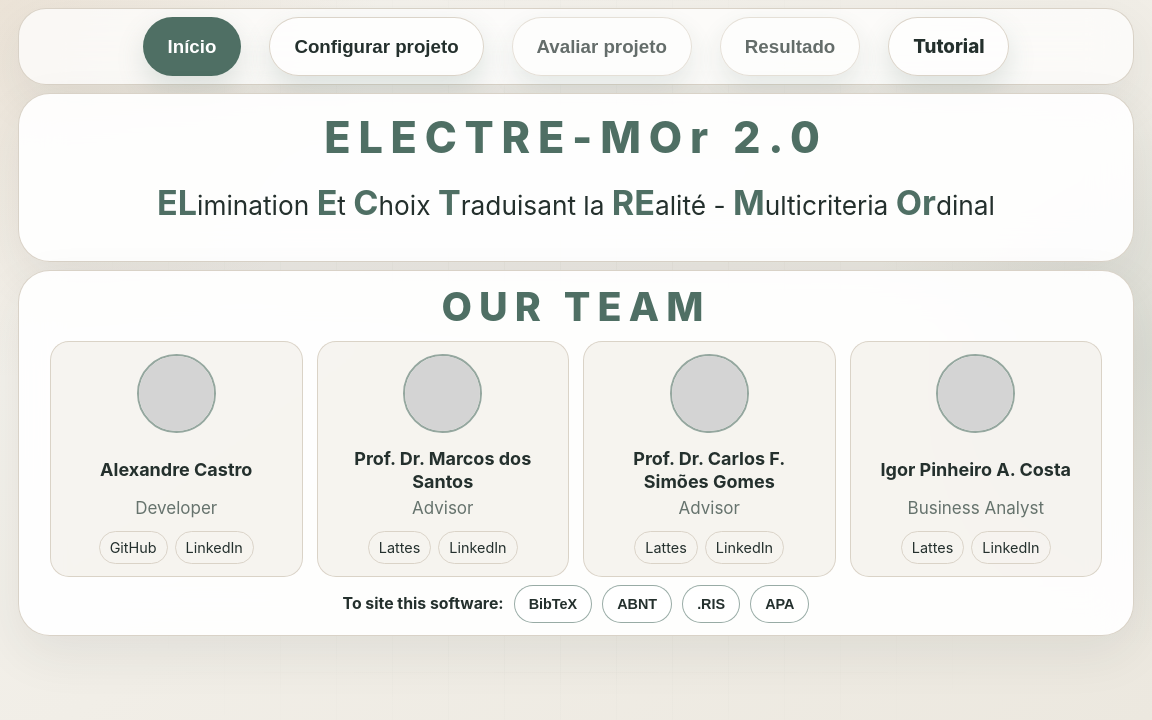
Test case: App › exibe a landing page e navega para a configuracao do projeto
This screenshot has width=1152, height=720.
Expected: the text "imination" is shown, left=197, top=190, right=317, bottom=221
Expected: the heading "Alexandre Castro" is shown, left=100, top=459, right=252, bottom=480
What coordinates should you click on to do the following:
click the button "Configurar projeto"
I would click on:
 (376, 46)
Its box is left=269, top=17, right=484, bottom=76.
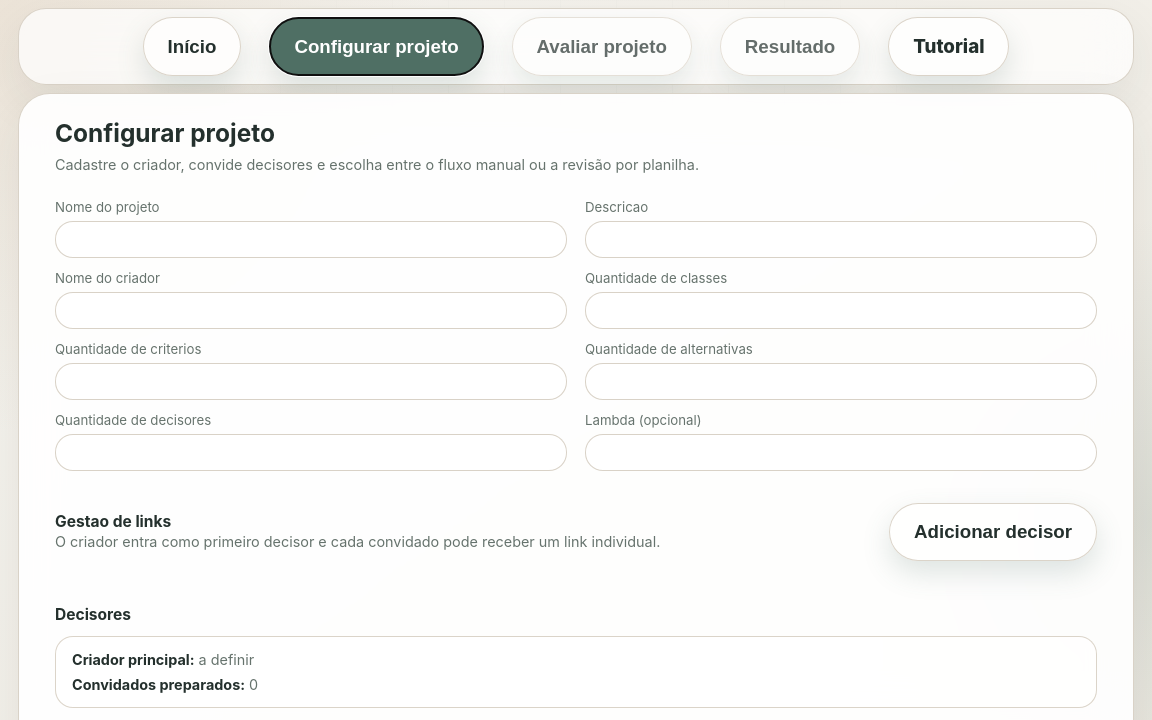
Result: the heading "Configurar projeto" is shown at left=55, top=118, right=275, bottom=148
Result: the field labelled "Nome do criador" is shown at left=55, top=292, right=567, bottom=329
Result: the field labelled "Nome do projeto" is shown at left=55, top=221, right=567, bottom=258
